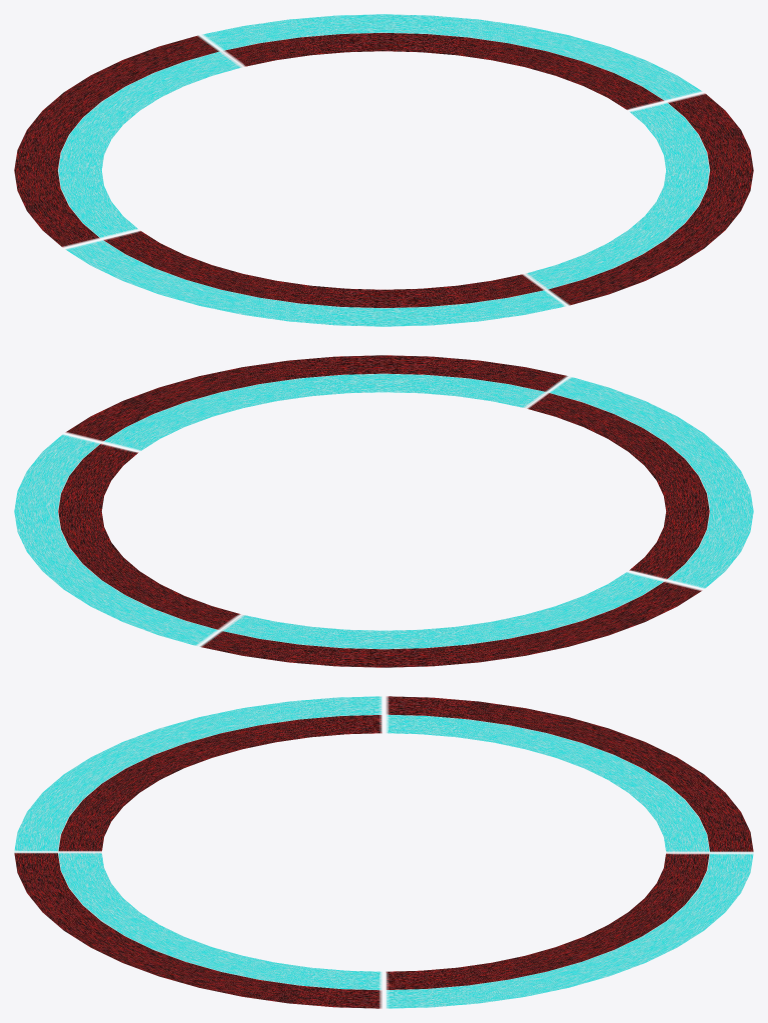
3 views of the same model, one above another, from view 1: azimuth 30°, elevation 25°; view 2: azimuth 150°, elevation 25°; view 3: azimuth 270°, elevation 25° (orthographic).
Visible parts, largest first — view 1: SM_Ring_Flat_96_LOD0; view 2: SM_Ring_Flat_96_LOD0; view 3: SM_Ring_Flat_96_LOD0.
Part boxes in pixels (x1,y1,x2,y2): SM_Ring_Flat_96_LOD0: (14,14,753,326); SM_Ring_Flat_96_LOD0: (14,355,753,667); SM_Ring_Flat_96_LOD0: (14,696,753,1008).
Bounding box in the file's own units: 2.5 × 0 × 2.5.
1 material, 1 textured.
